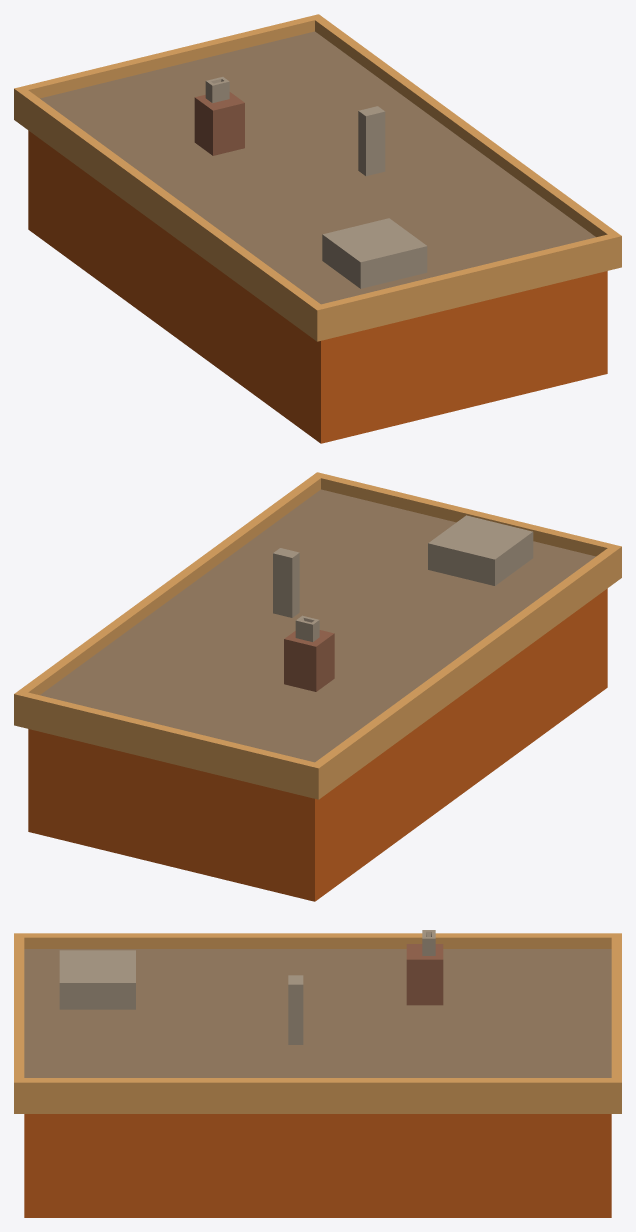
The model's file is building3_top.fbx.
3 renders of one model, top to bottom at view 1: azimuth 30°, elevation 25°; view 2: azimuth 150°, elevation 25°; view 3: azimuth 270°, elevation 25°, orthographic.
Visible parts, largest first — view 1: building3_top; view 2: building3_top; view 3: building3_top.
Part boxes in pixels (bbox=[...]): building3_top: bbox=[14, 14, 621, 443]; building3_top: bbox=[14, 472, 621, 901]; building3_top: bbox=[14, 930, 621, 1217].
Bounding box in the file's own units: 706 × 423 × 1217.
